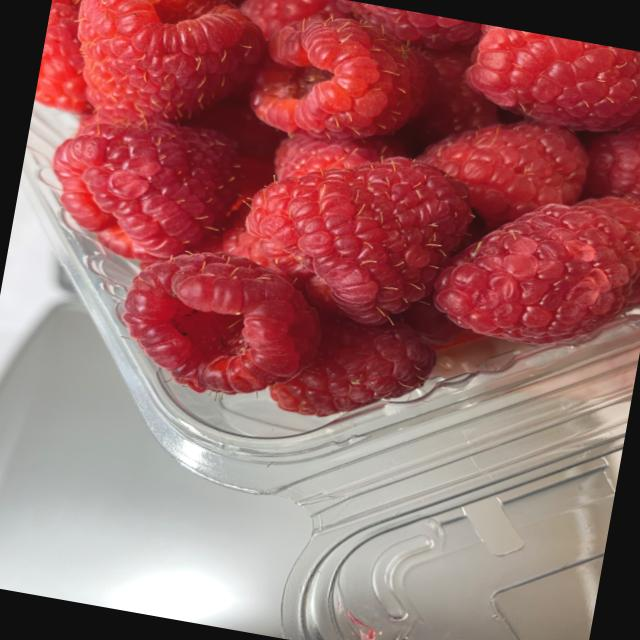raspberries: (0, 0, 640, 458)
